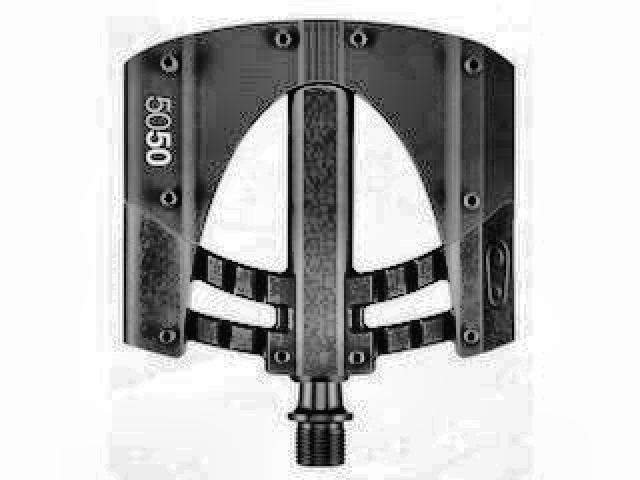pedal: (120, 14, 520, 469)
